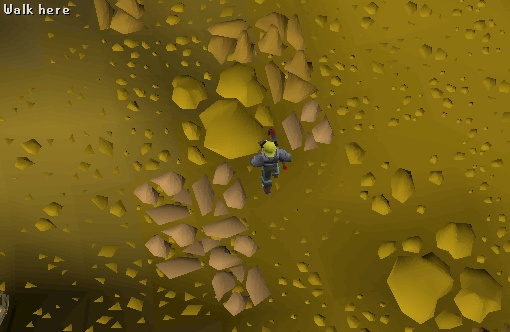granite: (274, 100, 348, 159), (181, 159, 255, 218), (195, 213, 269, 272), (201, 260, 275, 319)
sandstone: (200, 12, 260, 74), (260, 46, 320, 108)
